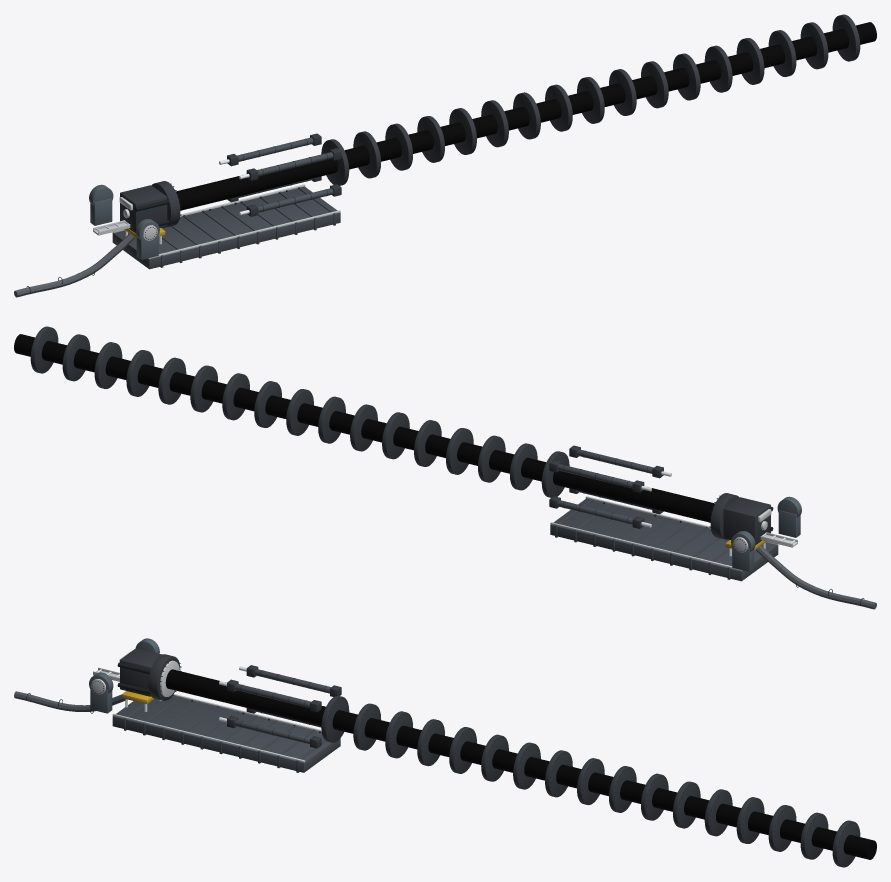
The model's file is gun.glb.
3 renders of one model, top to bottom at view 1: azimuth 30°, elevation 25°; view 2: azimuth 150°, elevation 25°; view 3: azimuth 330°, elevation 25°, orthographic.
Visible parts, largest first — view 1: jacket, bore, cradle, recoil, trunnion, breech, hoist, bring; view 2: jacket, bore, cradle, recoil, trunnion, breech, hoist, bring; view 3: jacket, bore, cradle, recoil, breech, trunnion, bring, hoist.
Part boxes in pixels (x1,y1,x2,y2): jacket: (321,14,860,185); bore: (176,22,876,210); cradle: (112,184,340,269); recoil: (219,133,341,216); trunnion: (89,184,159,259); breech: (119,185,169,233); hoist: (14,233,134,297); bring: (151,181,181,227); jacket: (30,326,569,497); bore: (14,334,714,522); cradle: (550,496,778,581); recoil: (549,445,671,528); trunnion: (731,496,801,571); breech: (723,497,773,545); hoist: (756,545,876,609); bring: (709,493,739,539); jacket: (321,695,860,867); bore: (165,669,876,859); cradle: (112,694,340,772); recoil: (219,665,341,748); breech: (117,648,161,696); trunnion: (89,638,159,713); bring: (148,654,181,700); hoist: (14,691,125,713).
Bounding box in the file's own units: 268 × 23.77 × 28.9.
